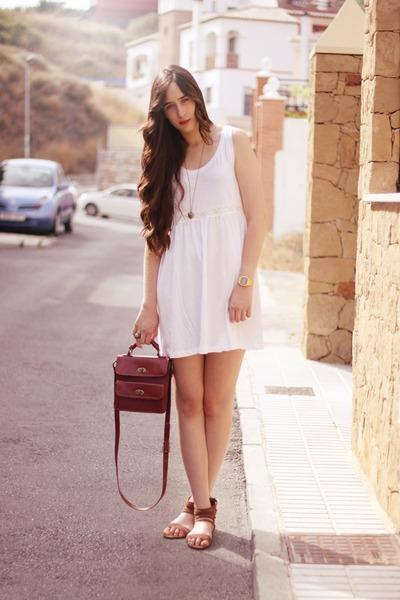bag: (113, 340, 179, 467)
dress: (156, 118, 266, 358)
shoe: (186, 498, 216, 527)
